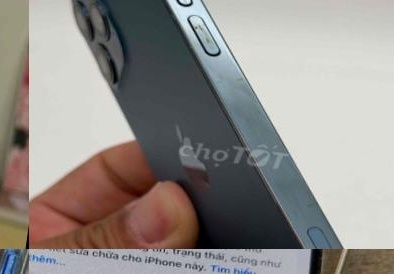scratch: (0, 249, 29, 274)
